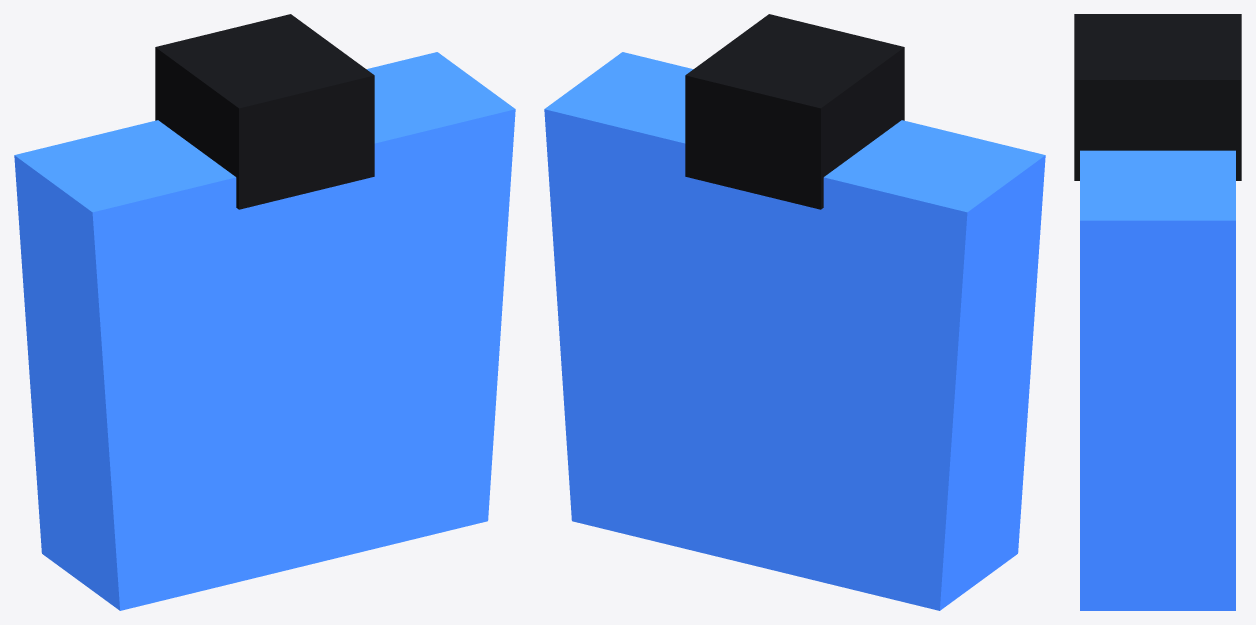
The model's file is prop_pickup_armor.glb.
3 renders of one model, left to right at view 1: azimuth 30°, elevation 25°; view 2: azimuth 150°, elevation 25°; view 3: azimuth 270°, elevation 25°, orthographic.
Visible parts, largest first — view 1: prop_pickup_armor__mesh; view 2: prop_pickup_armor__mesh; view 3: prop_pickup_armor__mesh.
Boxes of the visible parts, x1,y1,x2,y2 form: prop_pickup_armor__mesh: (14,14,515,610); prop_pickup_armor__mesh: (544,14,1045,610); prop_pickup_armor__mesh: (1074,14,1241,610).
Size of the model in its own units: 0.437 by 0.47 by 0.15.
